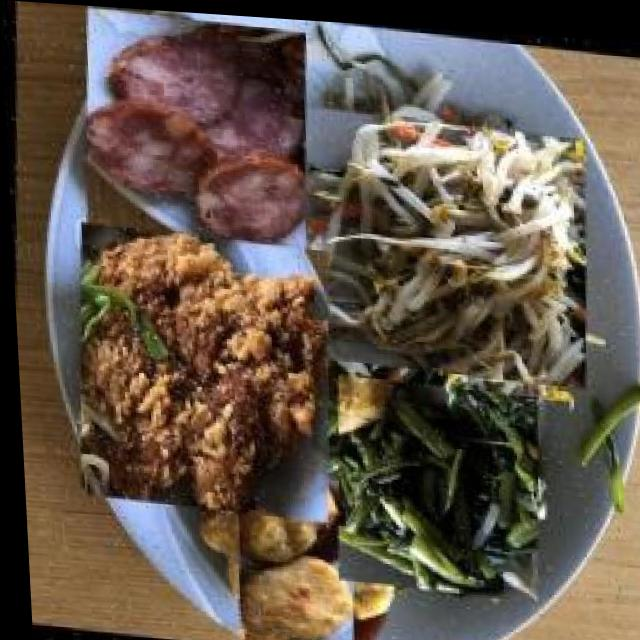chicken_nuggets: (207, 483, 377, 640)
chinese_sausage: (75, 7, 314, 249)
fried_chicken: (64, 220, 339, 522)
mung_bean_sprouts: (298, 95, 590, 390)
water_spinach: (324, 371, 546, 595)
